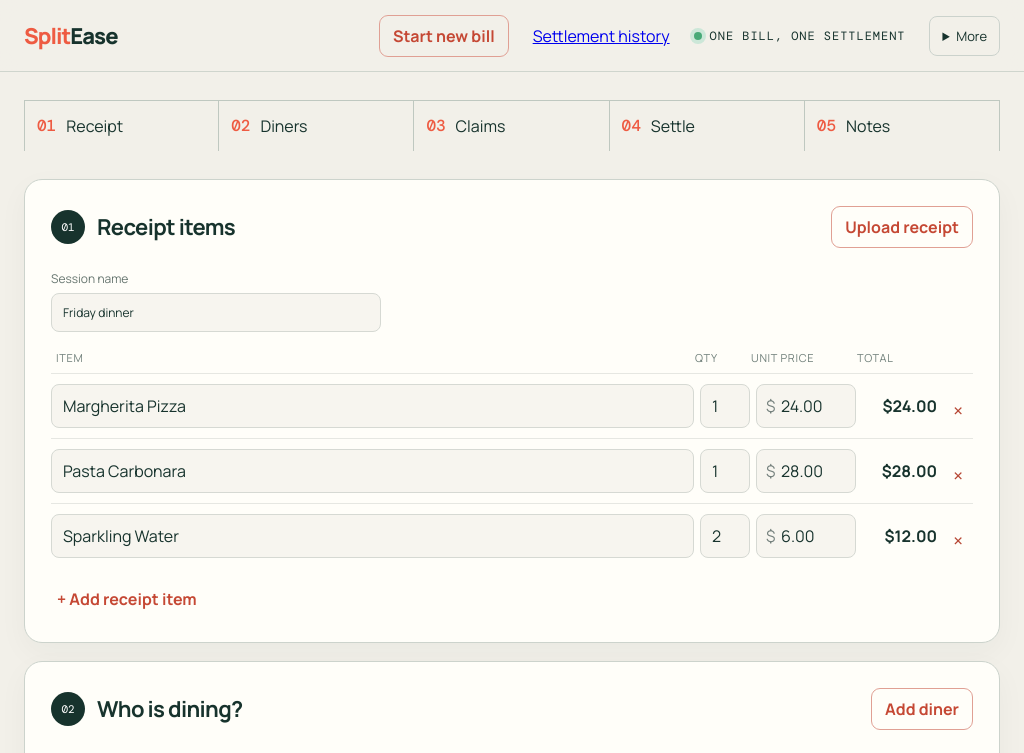
Test: avoids reusing a generated diner name after a removal
This screenshot has width=1024, height=753.
Click the button "Add diner" at (922, 709), box 871,688 -> 973,730
(page scrolled)
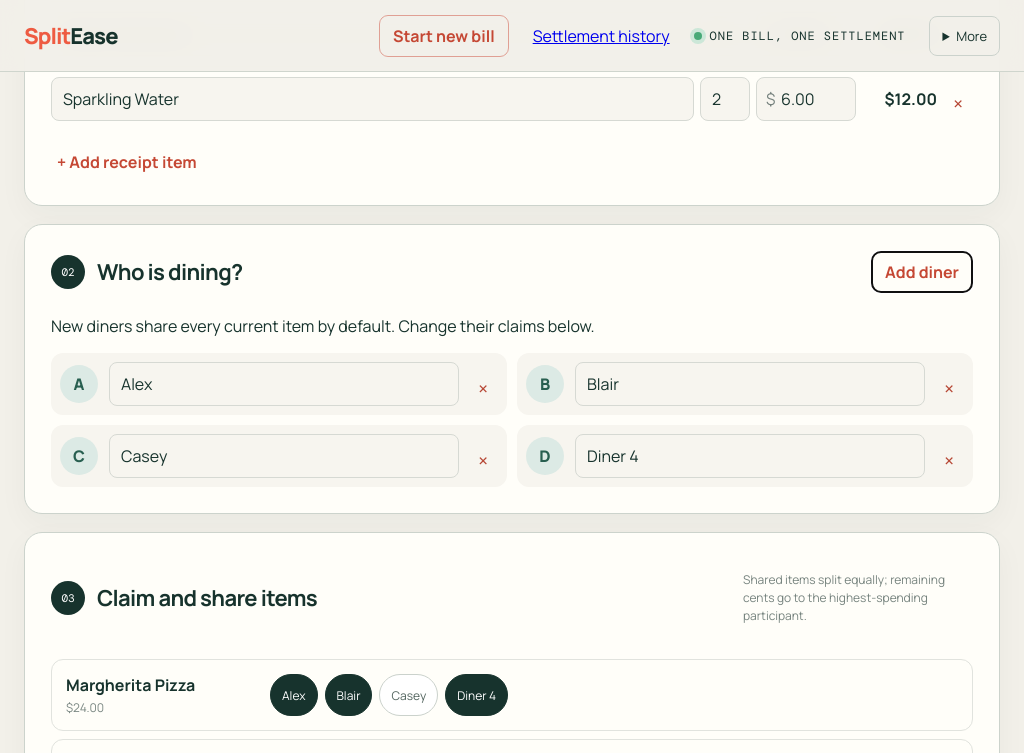
Click the button named "Remove Alex" at (483, 384), box 468,369 -> 498,399
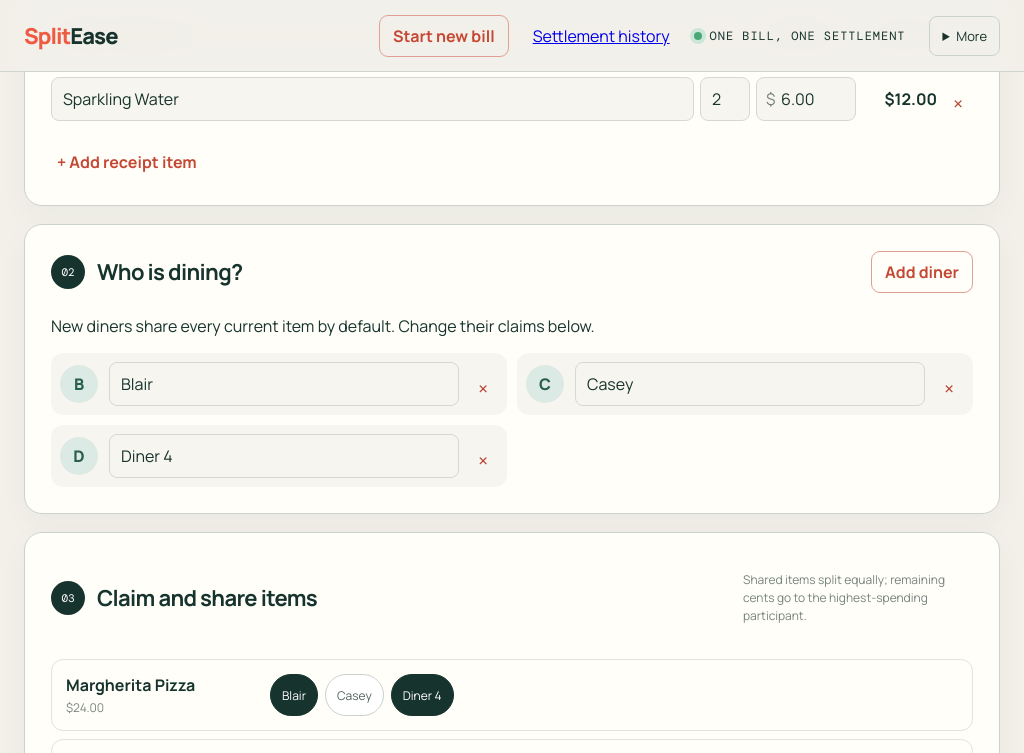
Click the button "Add diner" at (922, 272), box 871,251 -> 973,293
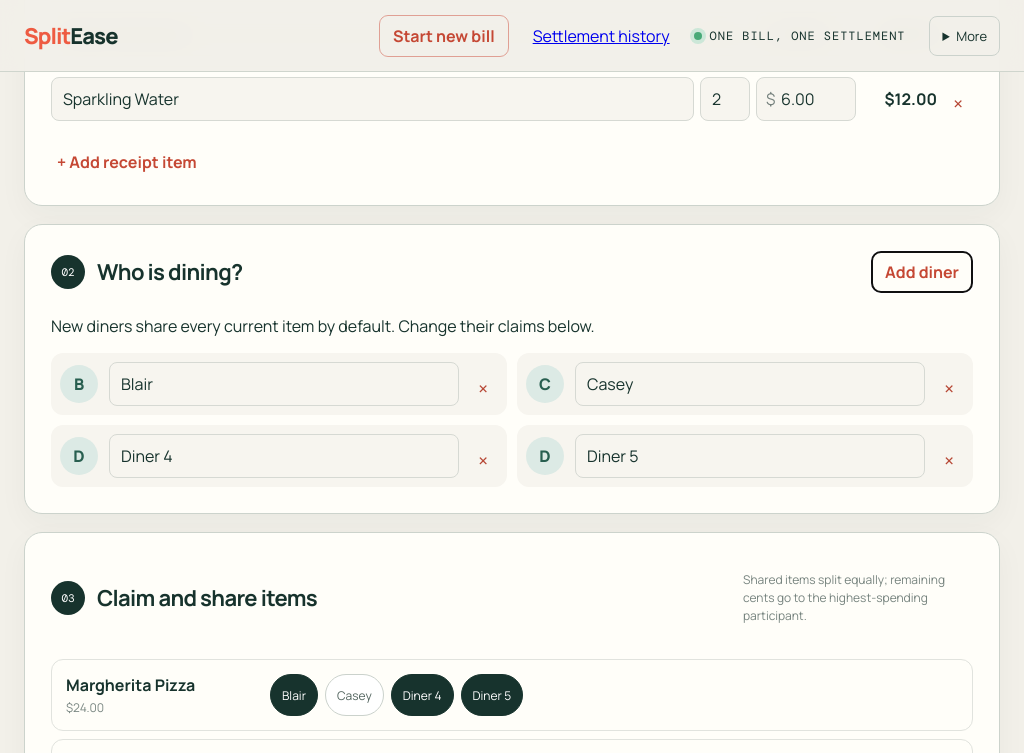
Expected: the field named "Diner 3 name" holds "Diner 4", 109,434 -> 459,478
Expected: the field named "Diner 4 name" holds "Diner 5", 575,434 -> 925,478
